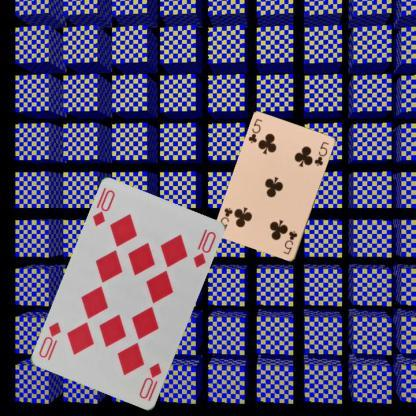10d: (136, 360, 164, 402), (90, 187, 116, 228)
5c: (245, 116, 264, 145), (281, 228, 299, 256)
